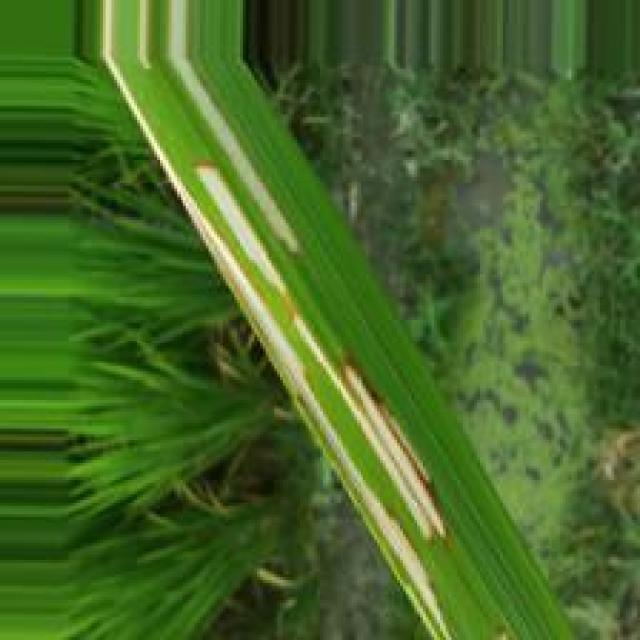Rice_Hispa: (157, 162, 445, 632), (292, 309, 454, 543), (170, 3, 291, 246)
